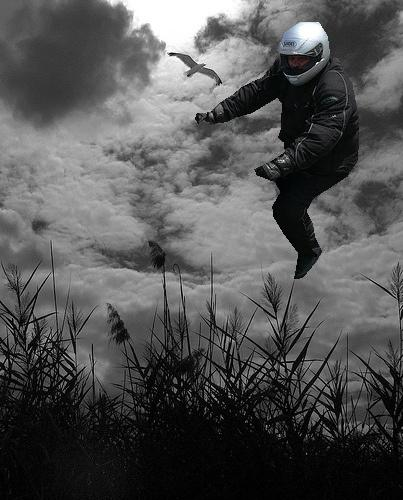tampered: (196, 23, 359, 279)
